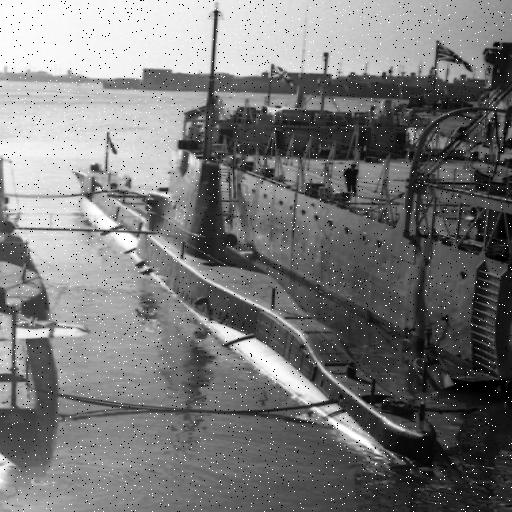submarine: (79, 156, 450, 458), (1, 153, 59, 437)
